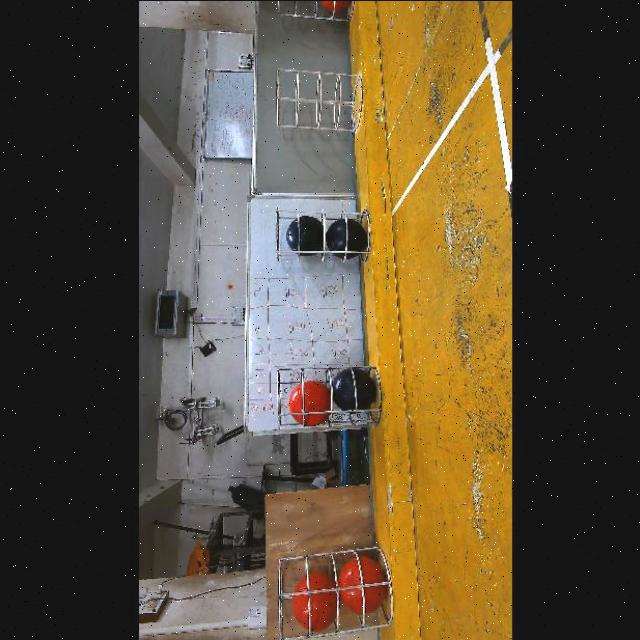P: (331, 367, 375, 414), (324, 218, 366, 259), (284, 215, 323, 255)
R: (339, 556, 386, 615), (290, 572, 336, 632), (286, 380, 329, 427), (318, 0, 349, 12)
S: (272, 538, 386, 640), (272, 365, 386, 439), (270, 62, 364, 136), (266, 202, 370, 266), (274, 0, 358, 28)
